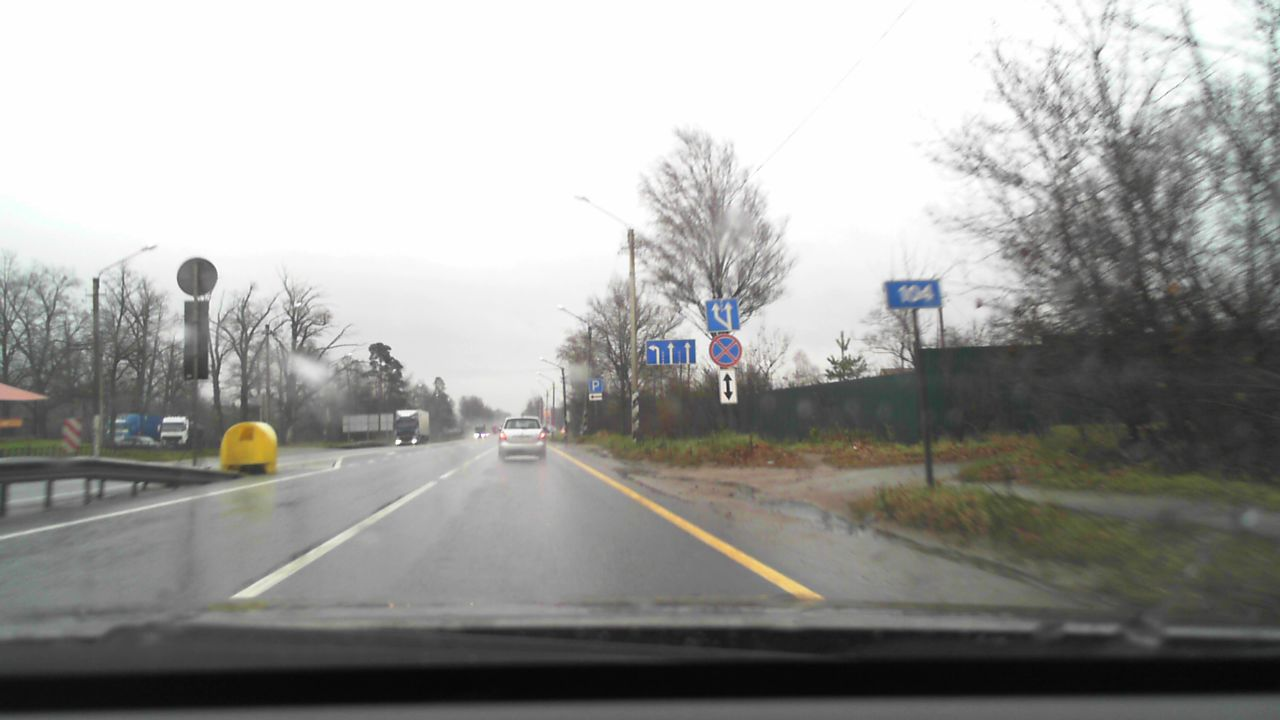No Parking: (709, 333, 742, 367)
